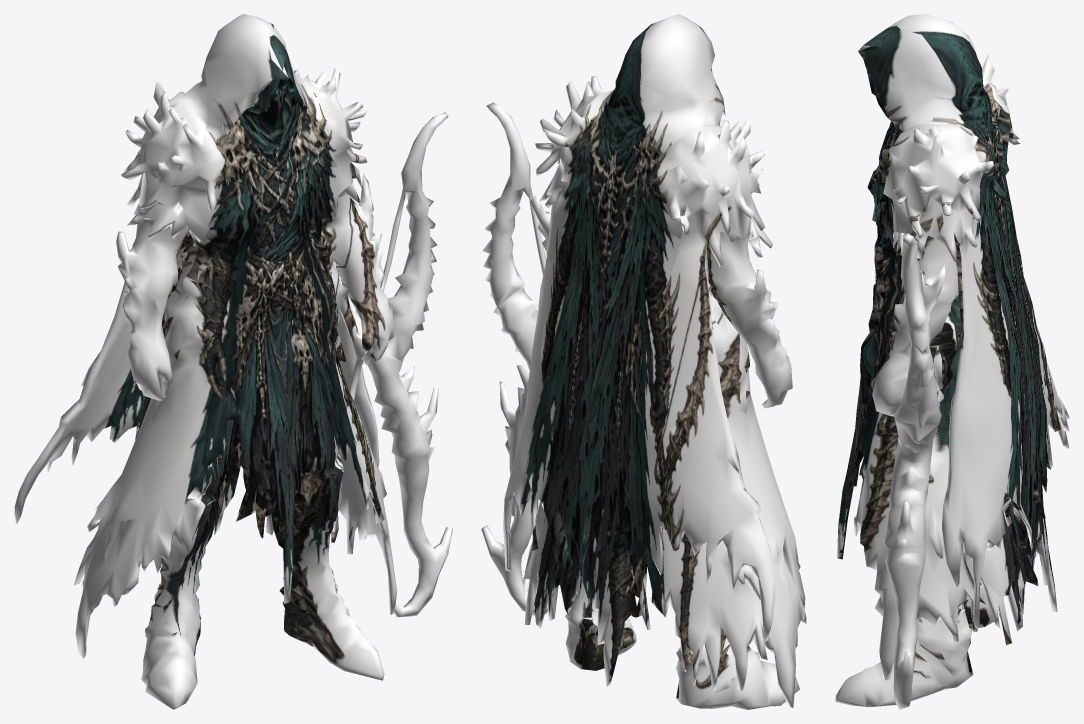
Rendered from archer.glb.
3 views of the same model, side by side, from view 1: azimuth 30°, elevation 25°; view 2: azimuth 150°, elevation 25°; view 3: azimuth 270°, elevation 25° (orthographic). The views are drawn at different scales.
Parts seen in each view (by area): view 1: world; view 2: world; view 3: world.
Boxes of the visible parts, <box> form: world: <box>14,14,452,709</box>; world: <box>481,14,806,709</box>; world: <box>835,14,1069,709</box>.
Size of the model in its own units: 1.05 by 1.8 by 0.592.
1 material, 1 textured.
